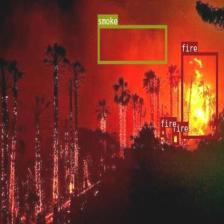fire: (181, 52, 218, 138), (172, 132, 178, 144), (160, 127, 166, 137)
smoke: (97, 25, 167, 63)
